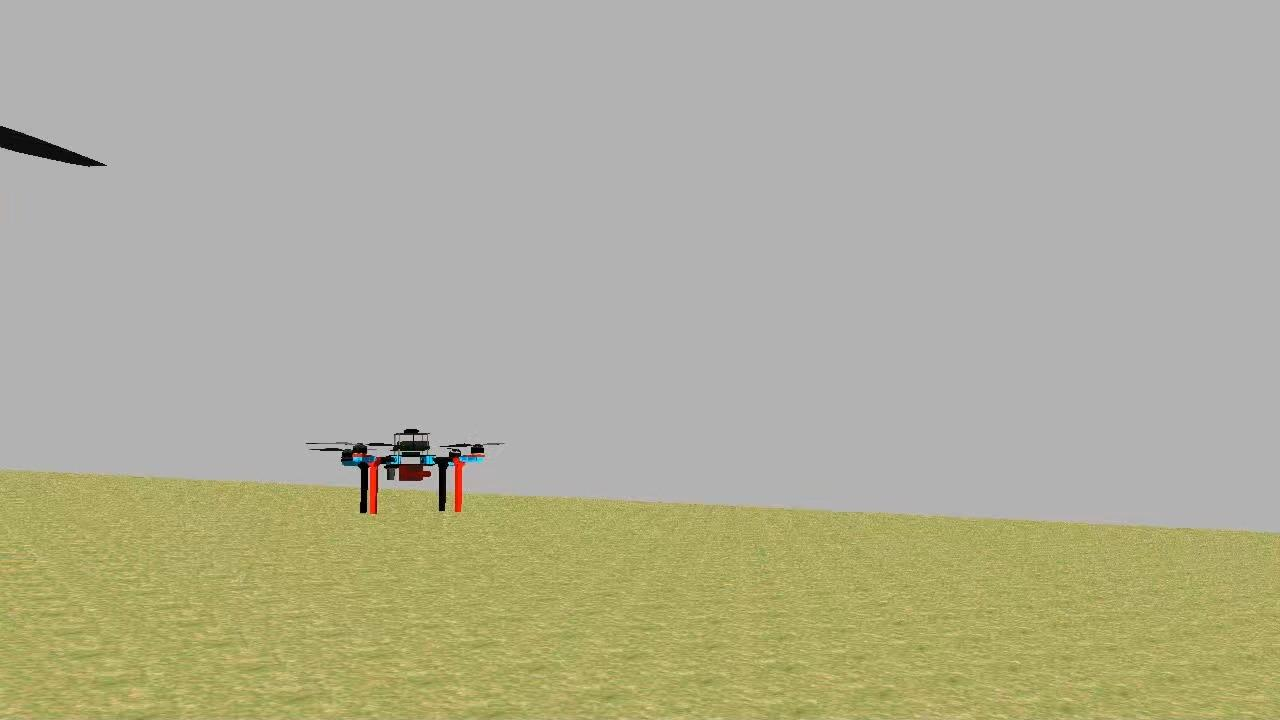UAV: (336, 422, 494, 520)
